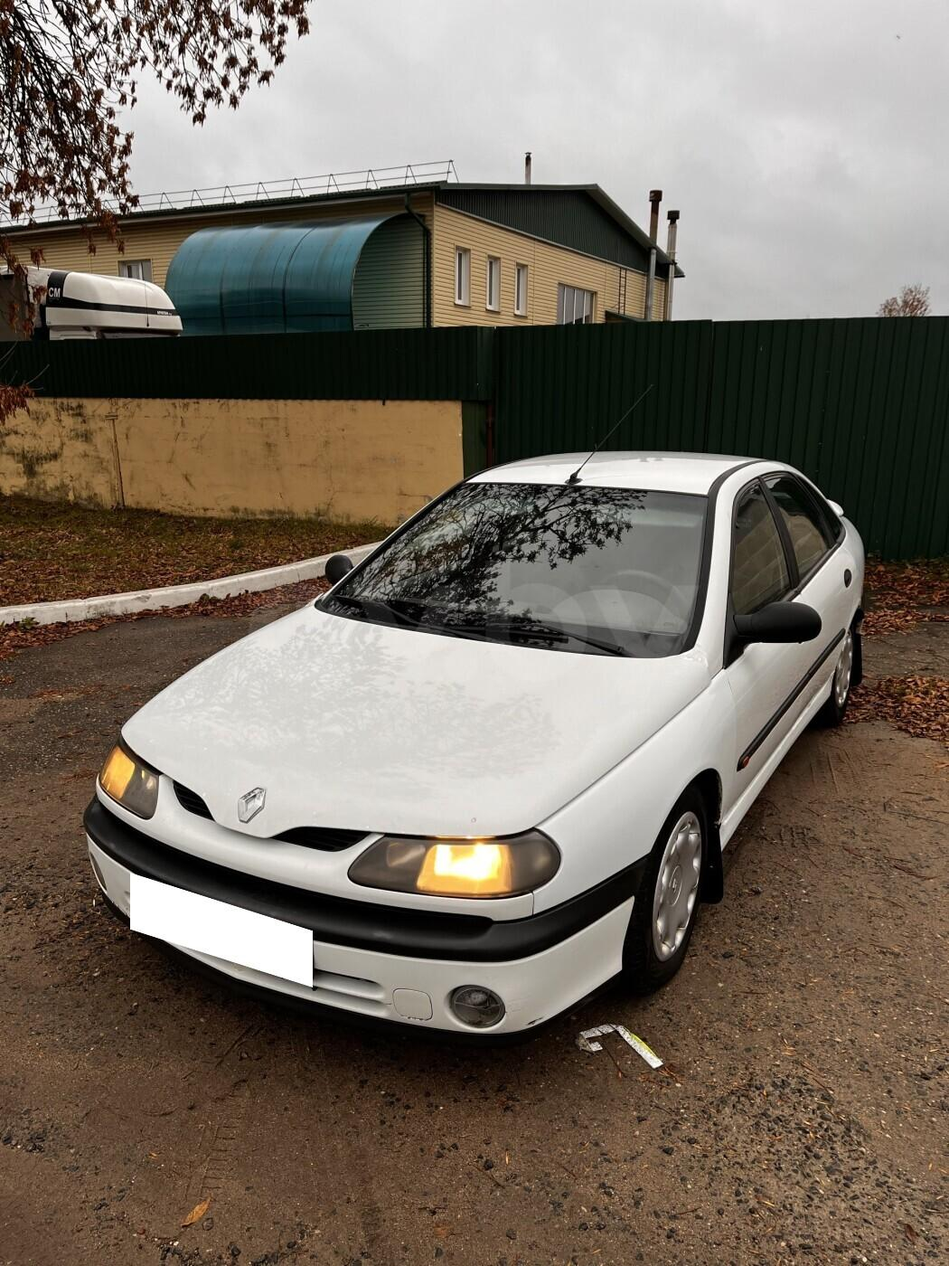Laguna_1998-2001: (74, 443, 866, 1045)
